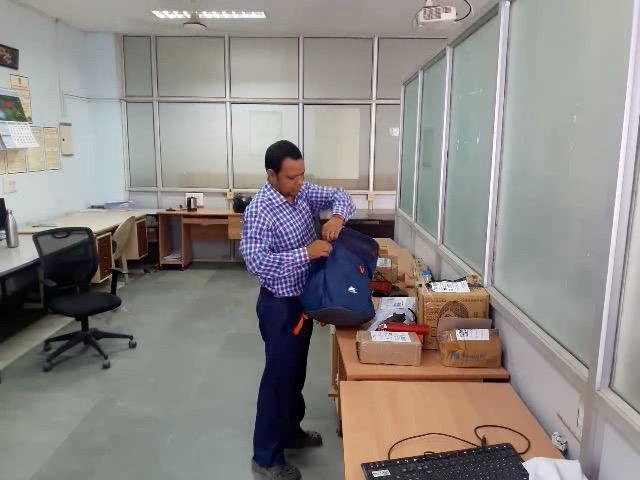shoplifting: (228, 190, 405, 327)
